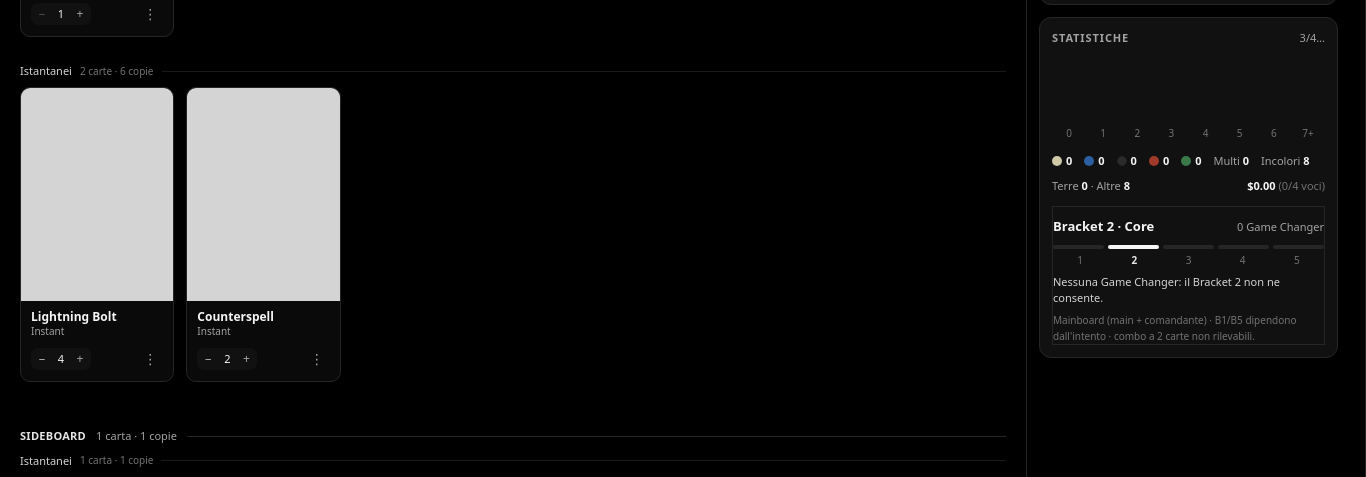
Test: DeckBuilder › collezione: dal menu sulla carta e badge possedute
The image size is (1366, 477).
Later steps or results of the test are not shown.
(page scrolled)
// dal menu: Lightning Bolt (LEA 161, qty 4) finisce in collezione
Right-click the element with test id "db-card-db-1": {"x": 97, "y": 235} [20,87,174,382]
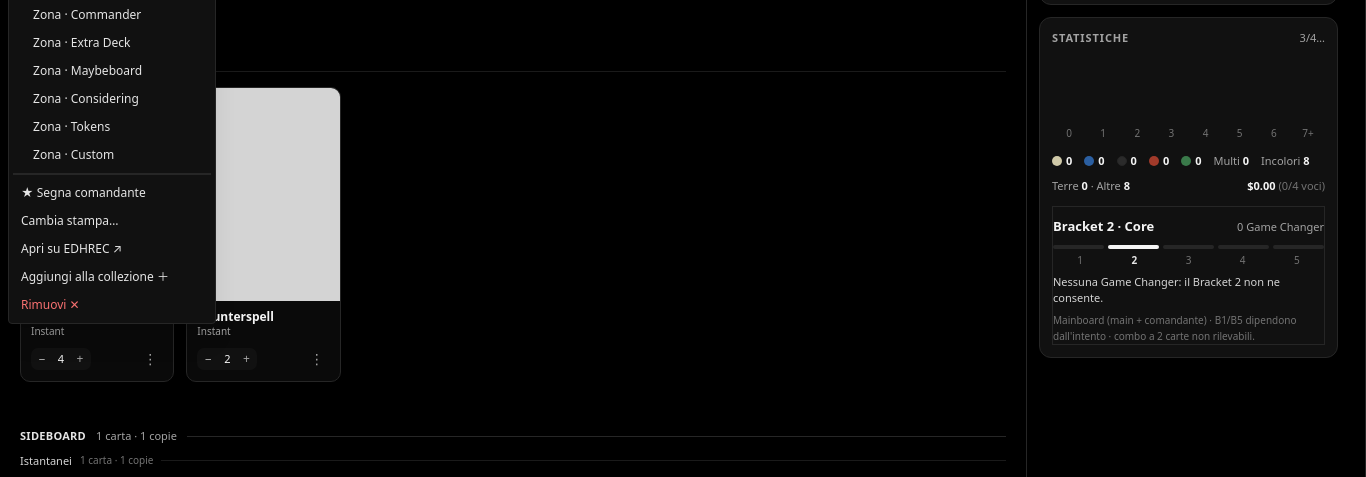
Click the menu item with test id "db-menu-collect": {"x": 112, "y": 276} [13,262,211,290]
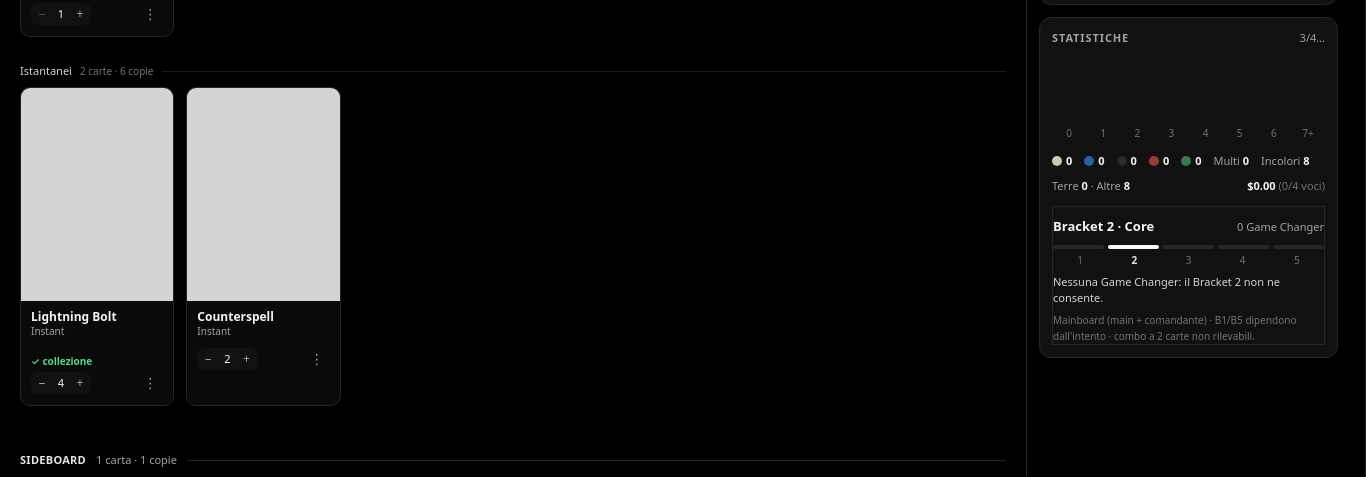
Expected: the text with test id "db-owned-db-1" reads "✓ collezione", [31,354,92,368]
